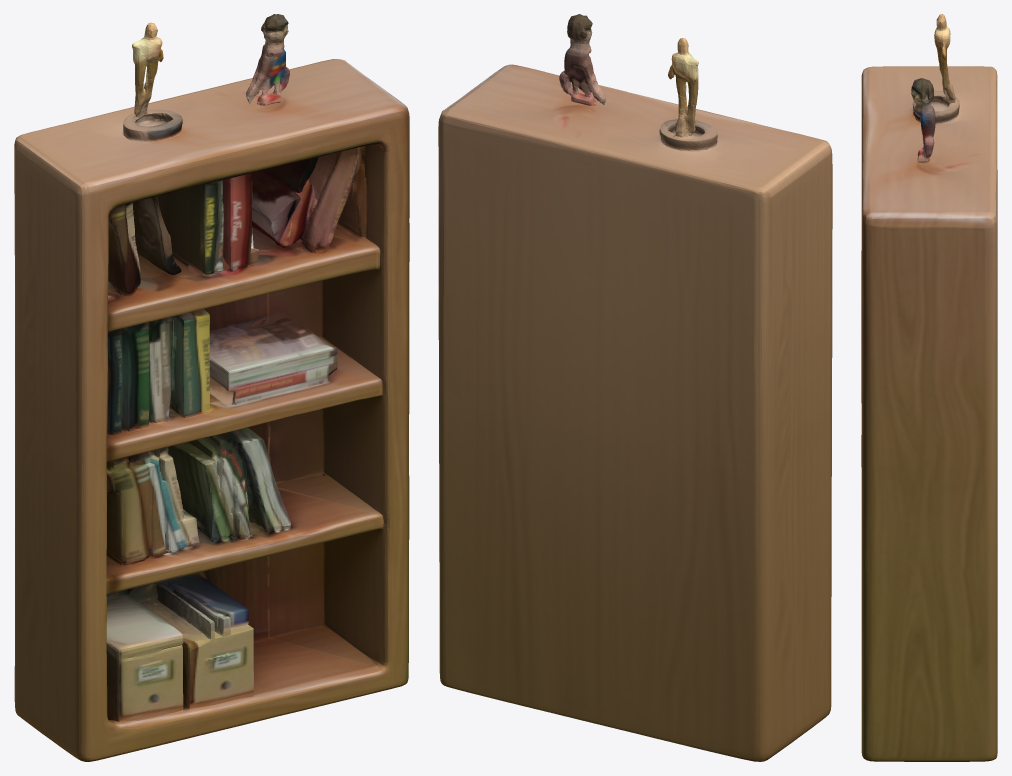
File: tall_bookshelf.glb
3 renders of one model, left to right at view 1: azimuth 30°, elevation 25°; view 2: azimuth 150°, elevation 25°; view 3: azimuth 270°, elevation 25°, orthographic. The views are drawn at different scales.
Parts seen in each view (by area): view 1: geometry_0; view 2: geometry_0; view 3: geometry_0.
Part boxes in pixels (x1,y1,x2,y2): geometry_0: (14,14,409,761); geometry_0: (438,14,832,761); geometry_0: (861,14,997,761).
Size of the model in its own units: 0.5098 by 0.9996 by 0.1911.
Materials: 1 (1 with a texture image).
